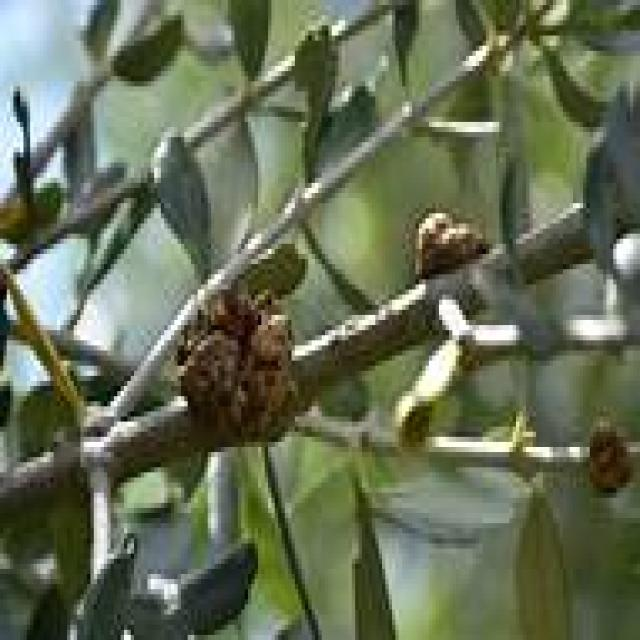Tuberculosis: (178, 290, 292, 447), (412, 205, 489, 279), (590, 424, 637, 490)
